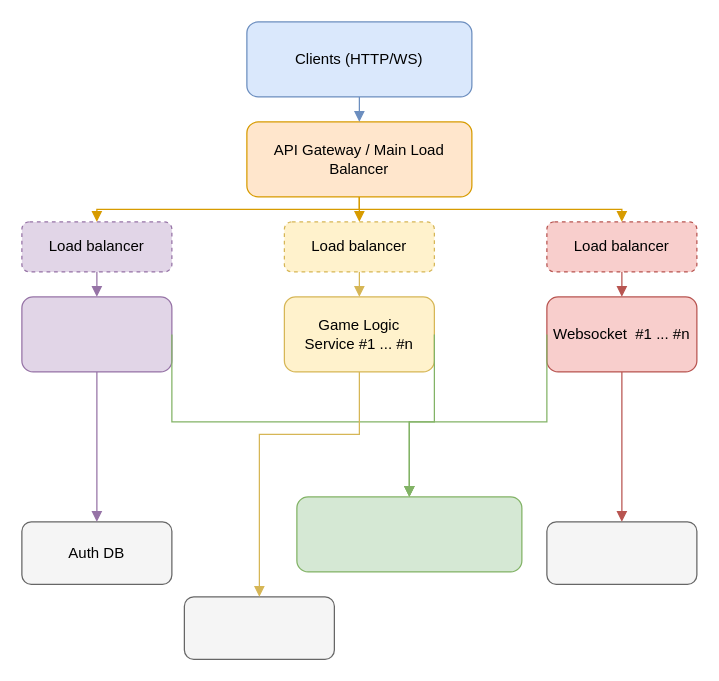
Image size: 719x681. Some labels were removed from this diagram. Here are the shapes that lost their labels. From the top down, the centre of each, then its label:
the point at 96,334: Auth Service #1 ... #n
the point at 409,534: Message Broker
the point at 621,552: State DB
the point at 258,627: Game DB
